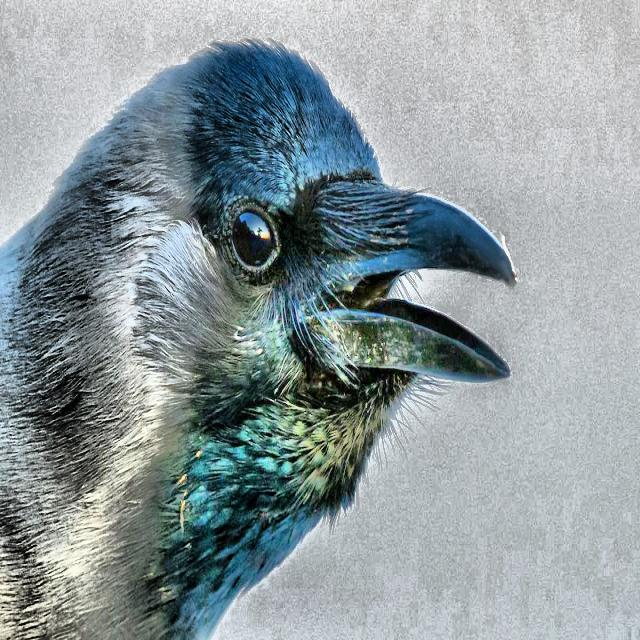crow: (1, 32, 526, 640)
